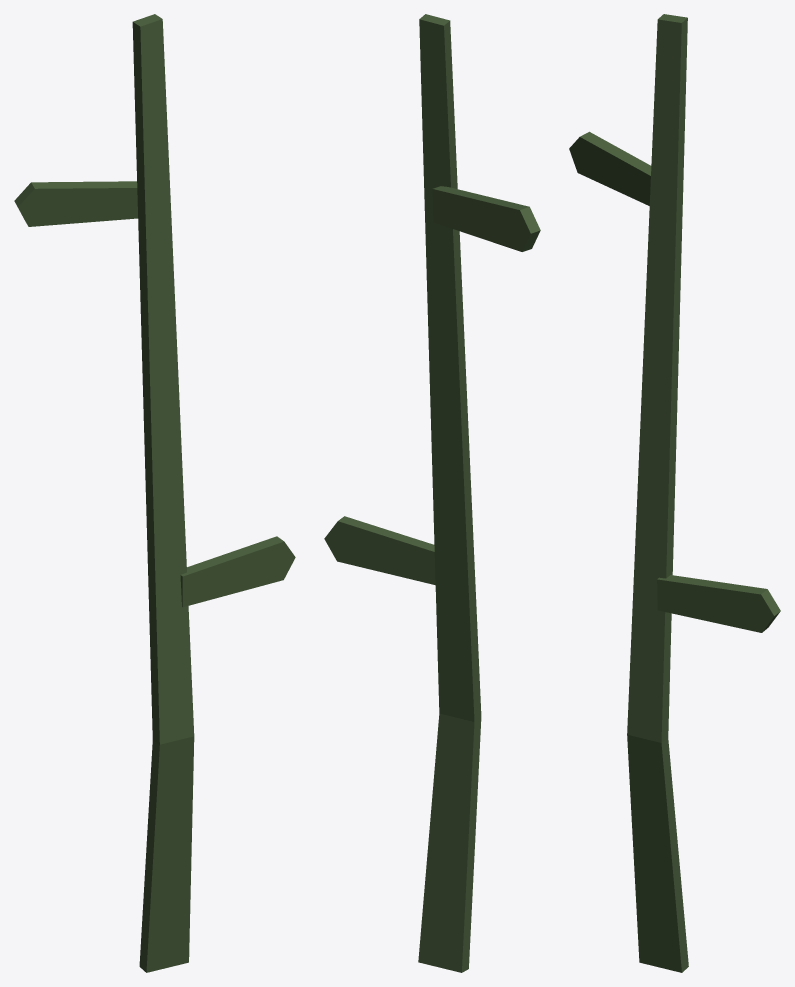
File: Flowers_Harvested.glb
3 renders of one model, left to right at view 1: azimuth 30°, elevation 25°; view 2: azimuth 150°, elevation 25°; view 3: azimuth 330°, elevation 25°, orthographic. The views are drawn at different scales.
Parts seen in each view (by area): view 1: Flowers_Harvested.obj; view 2: Flowers_Harvested.obj; view 3: Flowers_Harvested.obj.
Boxes of the visible parts, <box> form: Flowers_Harvested.obj: <box>14,14,295,972</box>; Flowers_Harvested.obj: <box>324,14,540,972</box>; Flowers_Harvested.obj: <box>569,14,780,972</box>.
Bounding box in the file's own units: 0.1928 × 0.715 × 0.0672.
